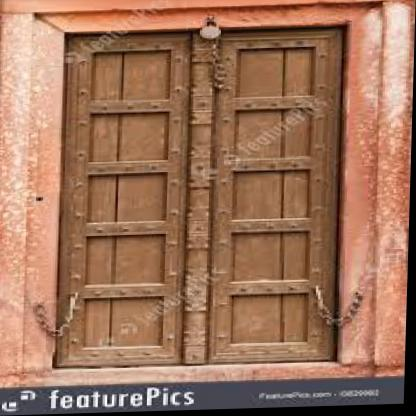door: (59, 35, 342, 364)
